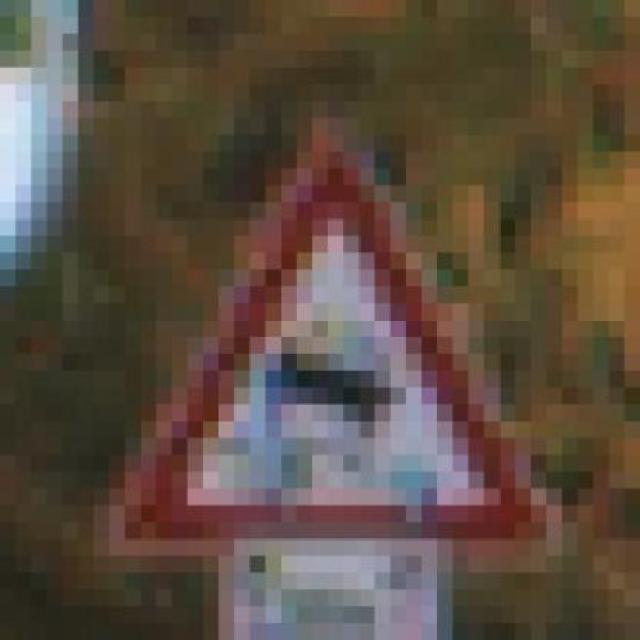Slippery Road Ahead: (124, 84, 562, 590)
